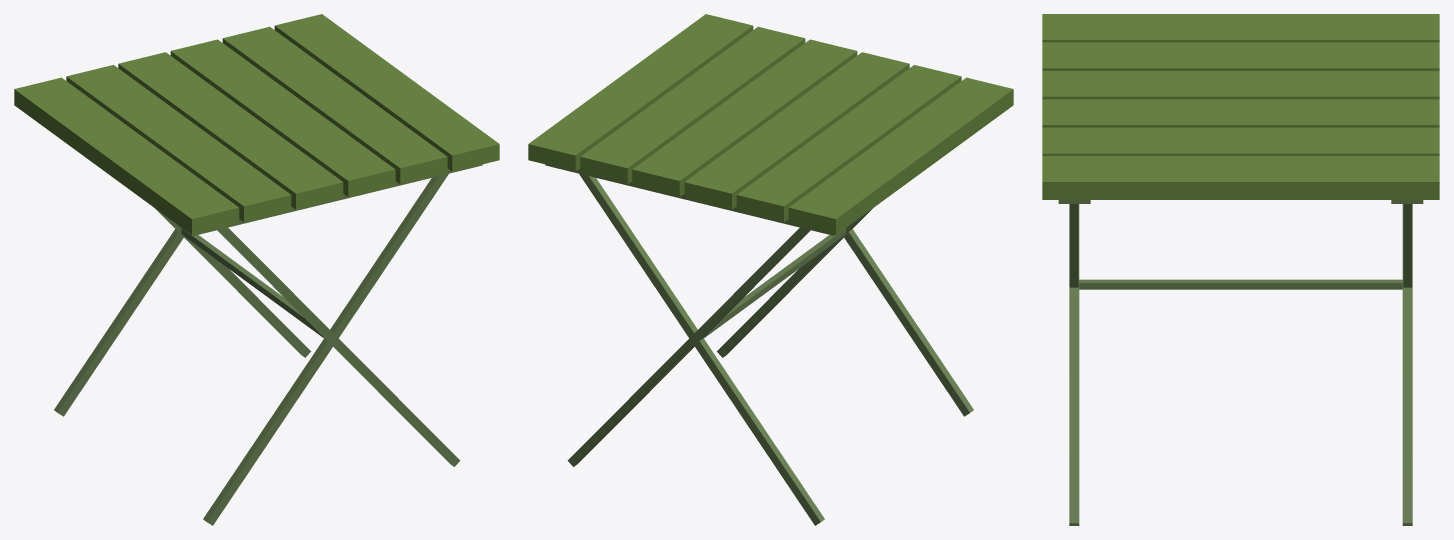
The model's file is Table_04.fbx.
3 views of the same model, side by side, from view 1: azimuth 30°, elevation 25°; view 2: azimuth 150°, elevation 25°; view 3: azimuth 270°, elevation 25° (orthographic). The views are drawn at different scales.
Visible parts, largest first — view 1: Table_04; view 2: Table_04; view 3: Table_04.
Boxes of the visible parts, x1,y1,x2,y2 form: Table_04: [14, 14, 499, 525]; Table_04: [528, 14, 1013, 525]; Table_04: [1042, 14, 1439, 525].
Size of the model in its own units: 0.8 by 0.8043 by 0.8.
